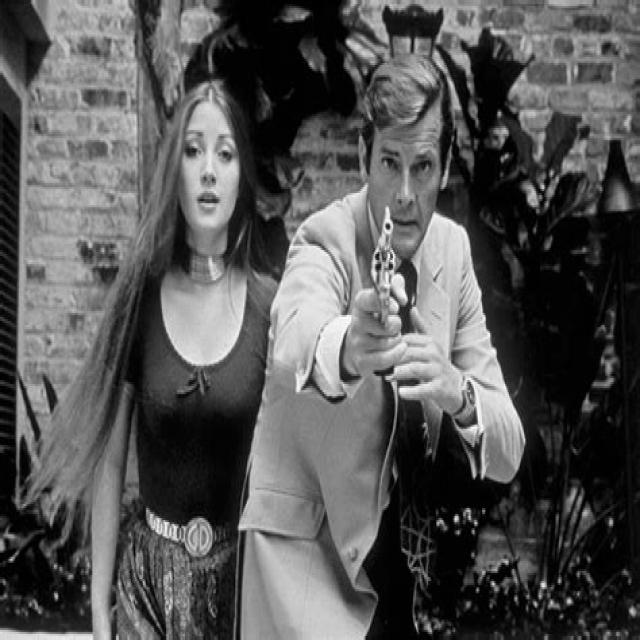weapons: (354, 192, 428, 360)
